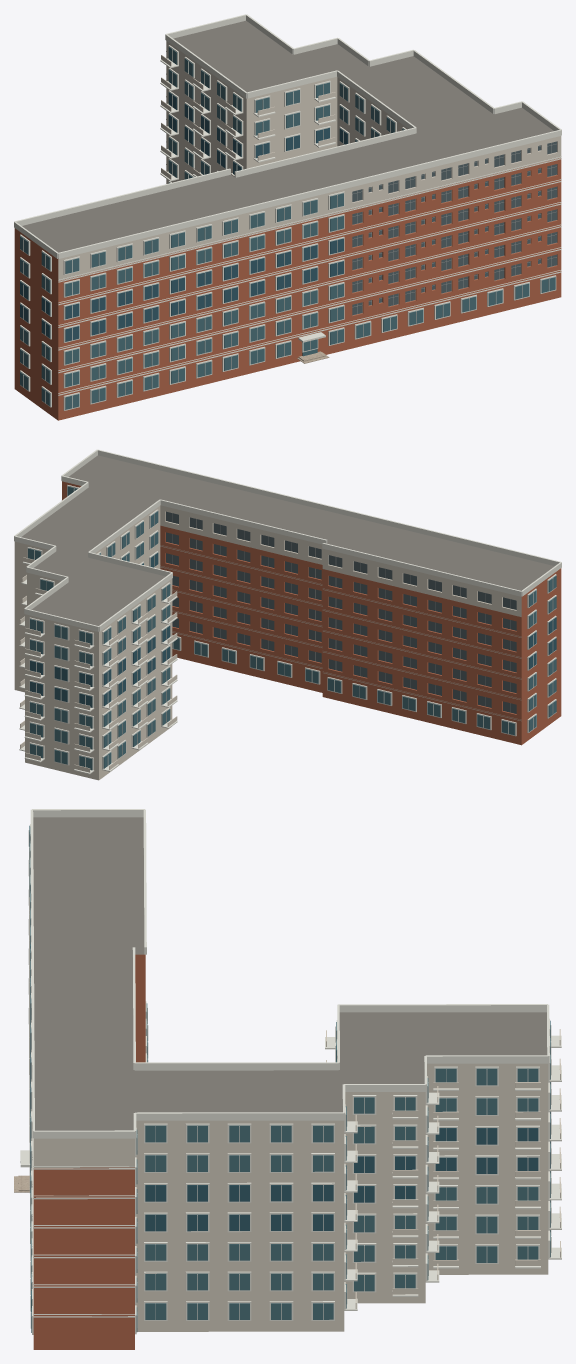
File: chunk-dorm-way-1076517222.glb
3 views of the same model, one above another, from view 1: azimuth 30°, elevation 25°; view 2: azimuth 150°, elevation 25°; view 3: azimuth 270°, elevation 25° (orthographic). The views are drawn at different scales.
Parts seen in each view (by area): view 1: chunk-dorm-way-1076517222; view 2: chunk-dorm-way-1076517222; view 3: chunk-dorm-way-1076517222.
Part boxes in pixels (left/top/right/bottom): chunk-dorm-way-1076517222: left=14, top=14, right=561, bottom=420; chunk-dorm-way-1076517222: left=14, top=449, right=561, bottom=780; chunk-dorm-way-1076517222: left=14, top=809, right=561, bottom=1349.
Size of the model in its own units: 77.31 by 24.4 by 55.36.
9 materials, 1 textured.
